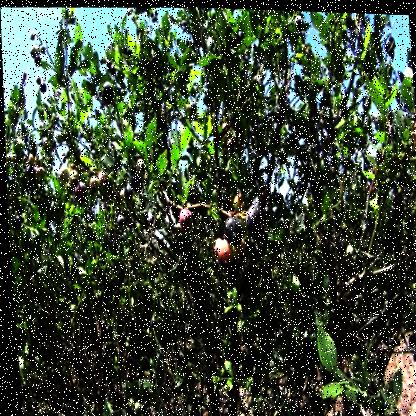intermediate: (217, 238, 234, 264), (177, 207, 193, 229), (72, 180, 88, 201), (97, 170, 109, 188), (89, 172, 98, 192), (227, 137, 234, 150)
mature: (223, 212, 243, 245), (246, 204, 262, 230), (101, 80, 115, 104), (129, 174, 143, 191), (11, 213, 21, 230), (295, 12, 305, 27), (124, 185, 133, 201), (189, 99, 197, 114), (124, 45, 133, 56), (38, 83, 47, 93), (34, 55, 42, 64), (116, 215, 123, 225)
young: (231, 238, 247, 258), (67, 170, 80, 188), (232, 192, 244, 211), (136, 156, 146, 177), (59, 164, 70, 183), (345, 242, 354, 256)
